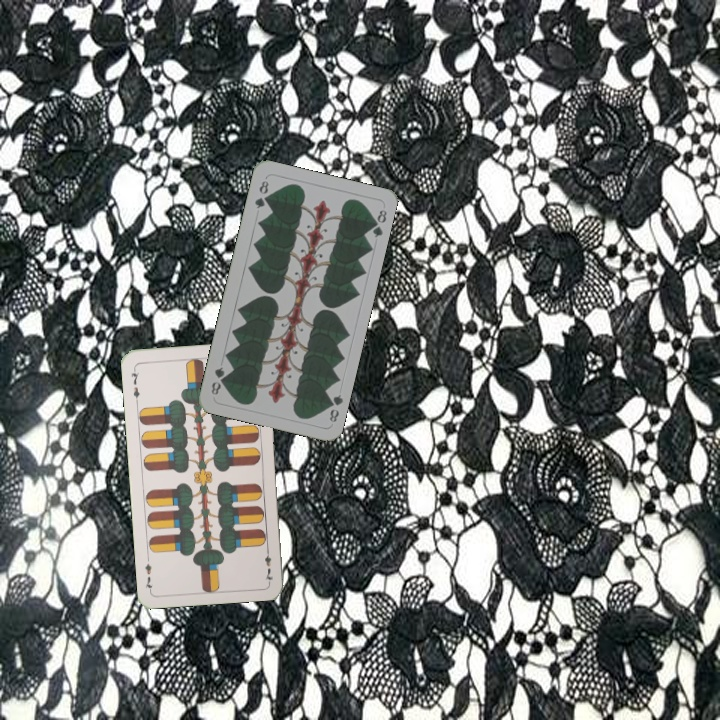E7: (127, 364, 142, 405), (261, 544, 275, 584)
G8: (323, 390, 346, 425), (251, 176, 271, 211)
